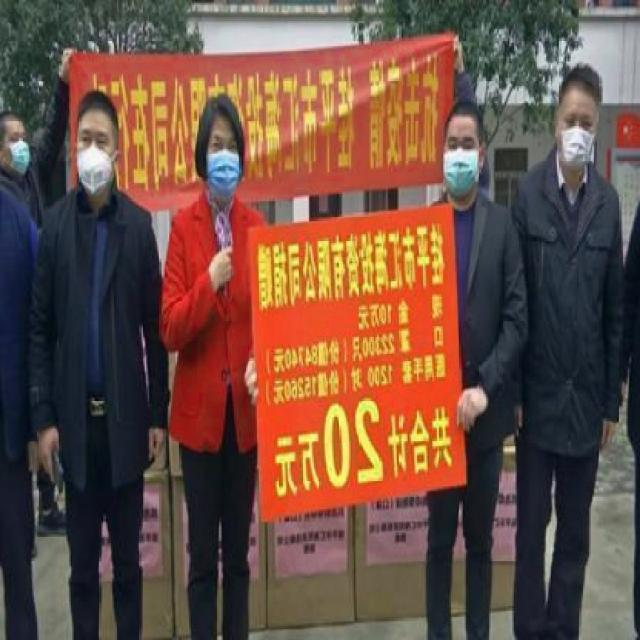face_mask: (439, 123, 483, 209), (77, 118, 120, 191), (206, 123, 245, 200), (557, 99, 597, 164), (1, 121, 34, 176)
hand_noglove: (457, 382, 489, 432), (43, 423, 63, 483), (212, 238, 234, 288), (148, 422, 168, 463), (246, 354, 262, 401), (600, 420, 620, 454), (61, 44, 76, 82), (29, 438, 43, 472), (512, 403, 525, 437), (454, 34, 466, 68), (620, 378, 629, 398)
head_nohelmet: (560, 59, 603, 104), (74, 91, 121, 129), (198, 97, 250, 131), (444, 100, 488, 131), (0, 114, 31, 132)
person: (24, 84, 168, 640), (394, 94, 521, 640), (510, 54, 624, 640), (170, 89, 276, 640)
